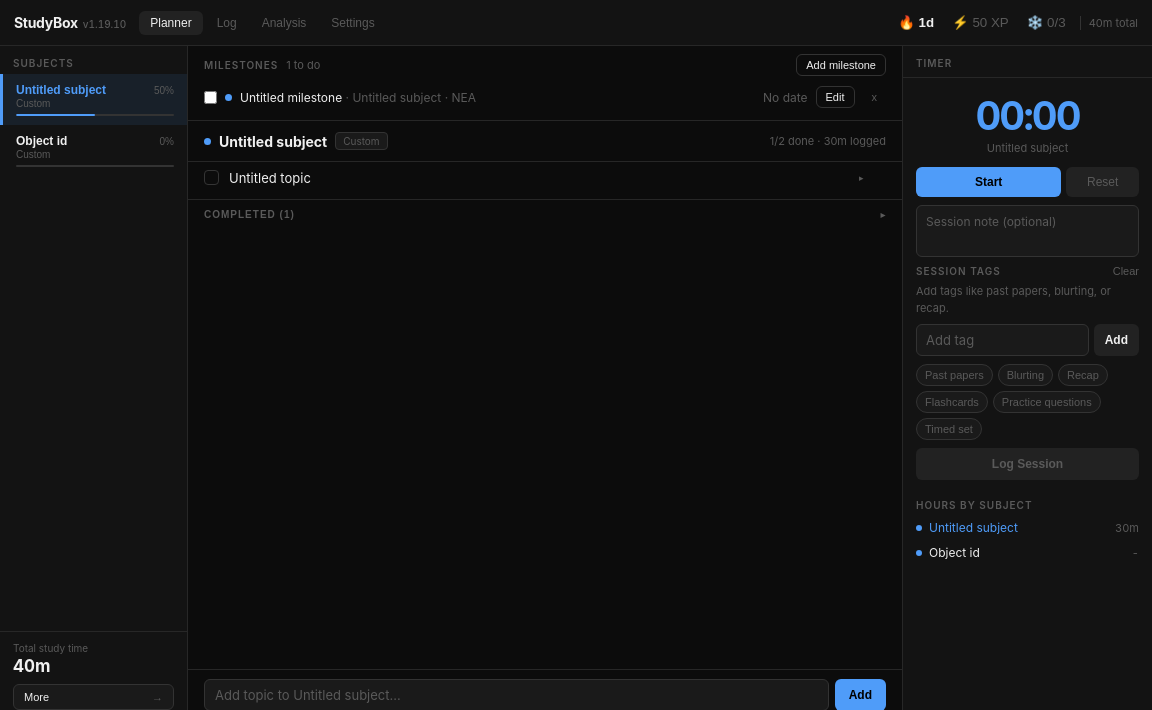
Scenario: wrong-type fields (N13) › already in storage let the app start
This screenshot has width=1152, height=710.
Click the button "Log".
click(227, 22)  # box x1=206 y1=10 x2=248 y2=34
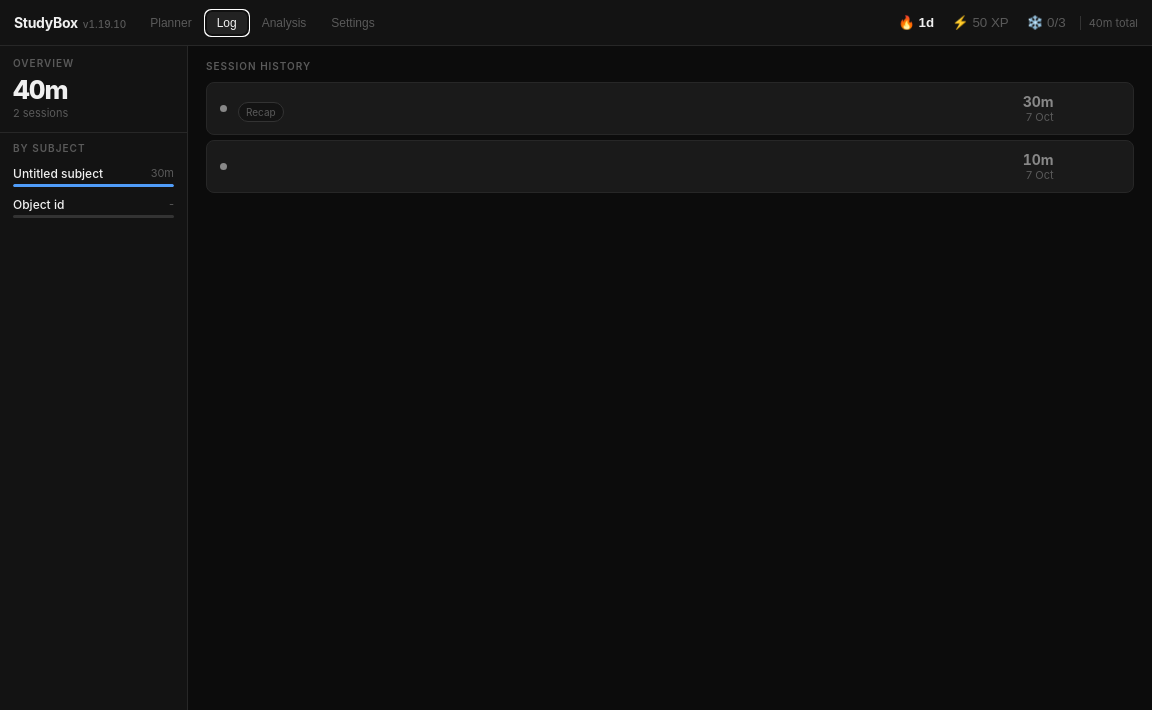
Click the button "Analysis".
click(284, 22)  # box x1=251 y1=10 x2=317 y2=34
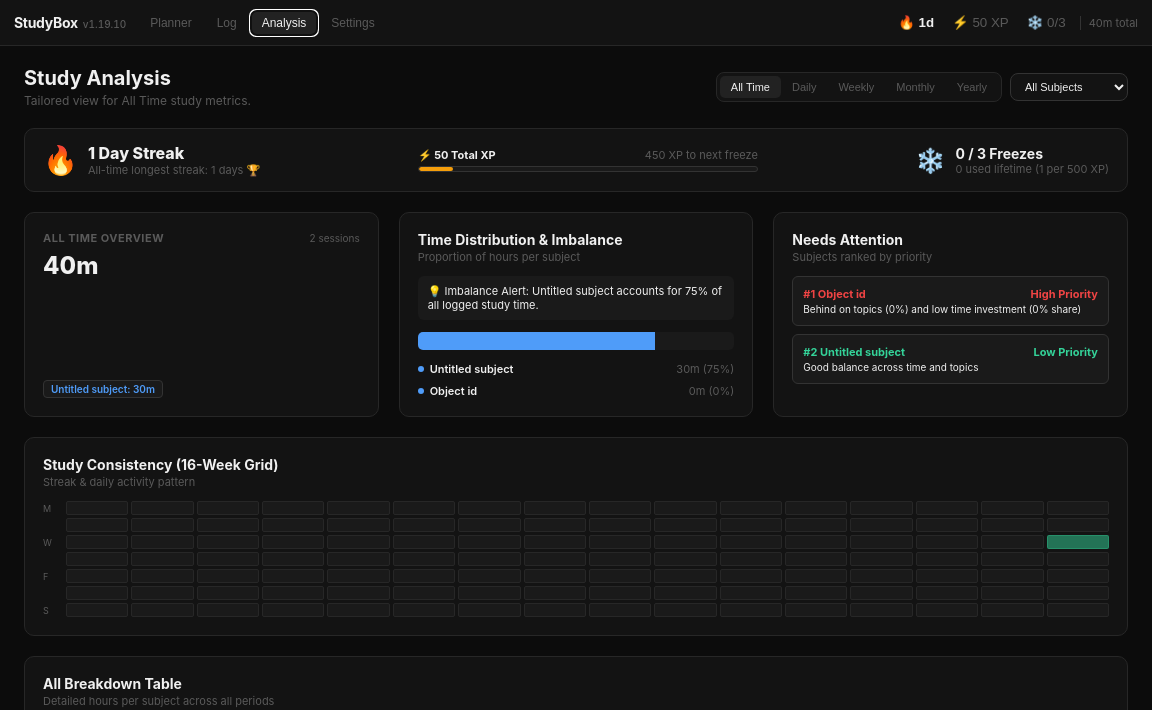
Click the button "Planner".
click(171, 22)  # box x1=139 y1=10 x2=203 y2=34
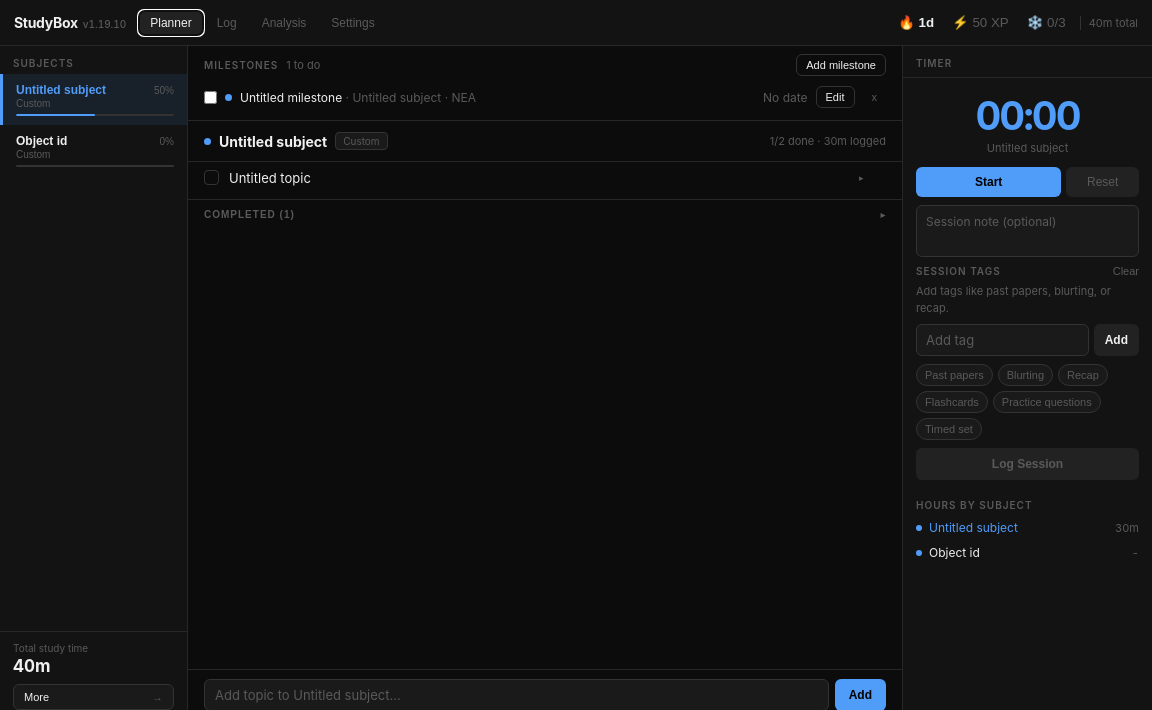
Click the button "Settings".
click(353, 22)  # box x1=320 y1=10 x2=386 y2=34
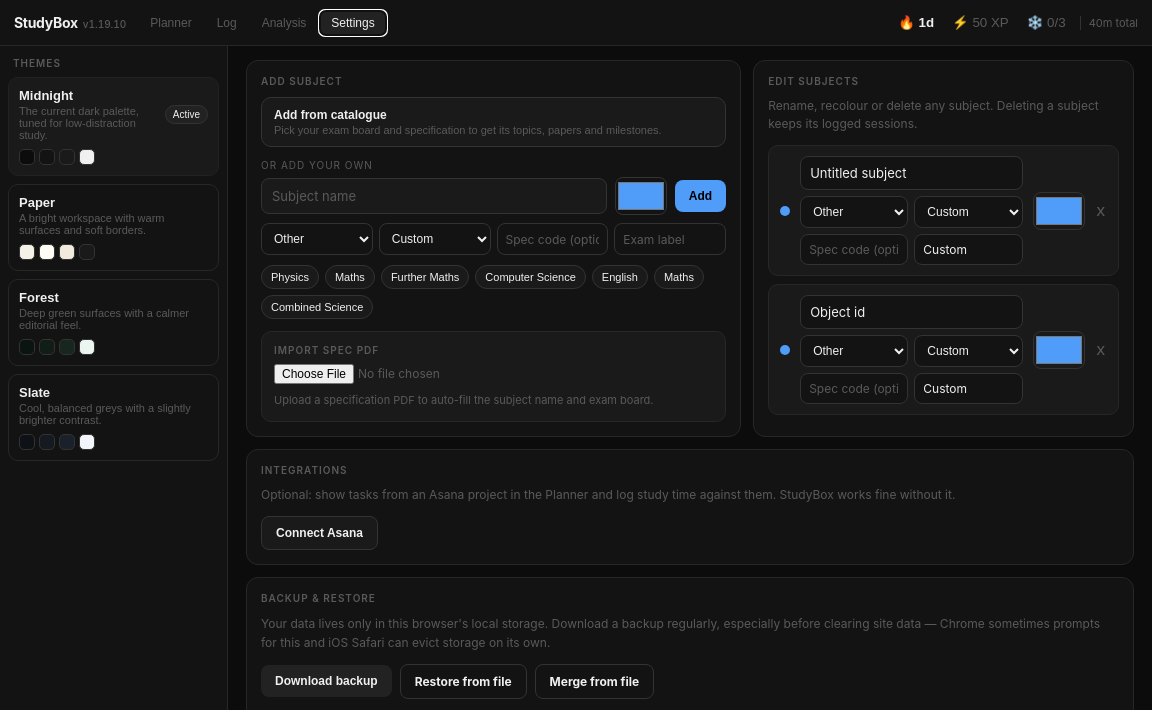
Click the button "Log".
click(227, 22)  # box x1=206 y1=10 x2=248 y2=34
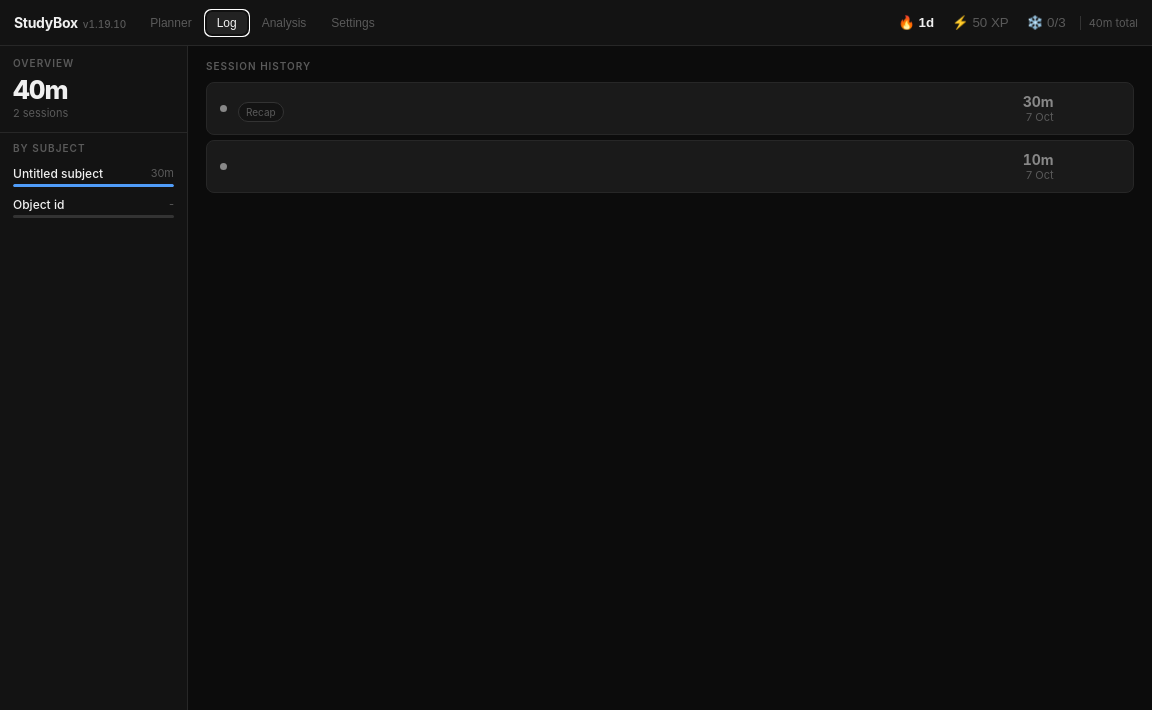
Expected: the text "Recap" is shown, x1=238 y1=102 x2=284 y2=122
